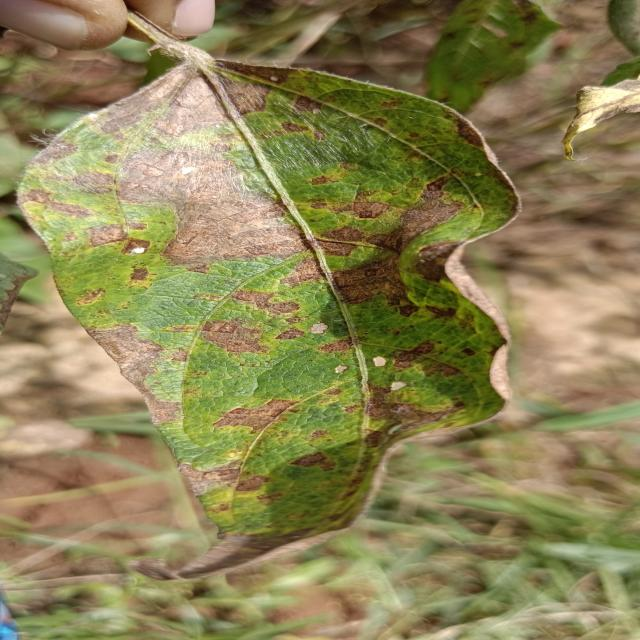Black gram_leaf spot: (1, 48, 532, 586)
